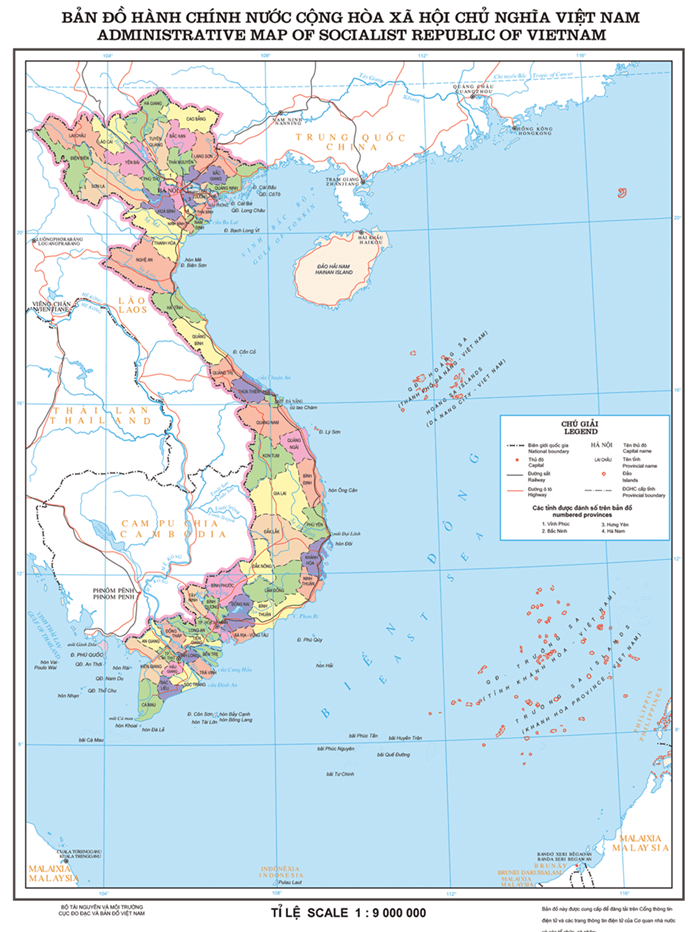Island: (445, 582, 646, 755), (393, 329, 507, 424)
